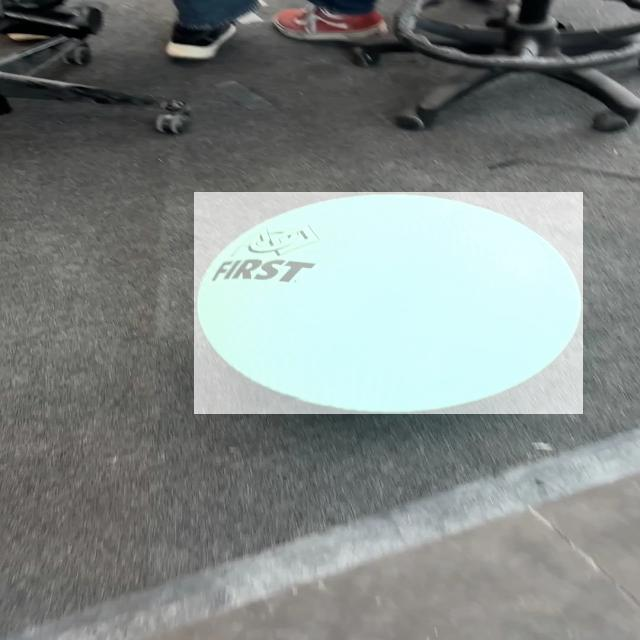Algae: (194, 192, 583, 414)
